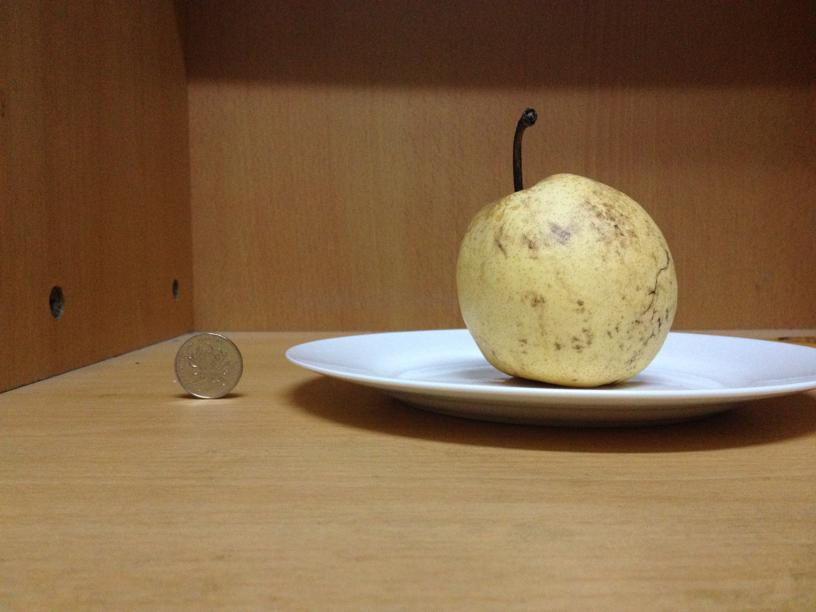coin: (176, 332, 243, 400)
pear: (454, 170, 678, 384)
